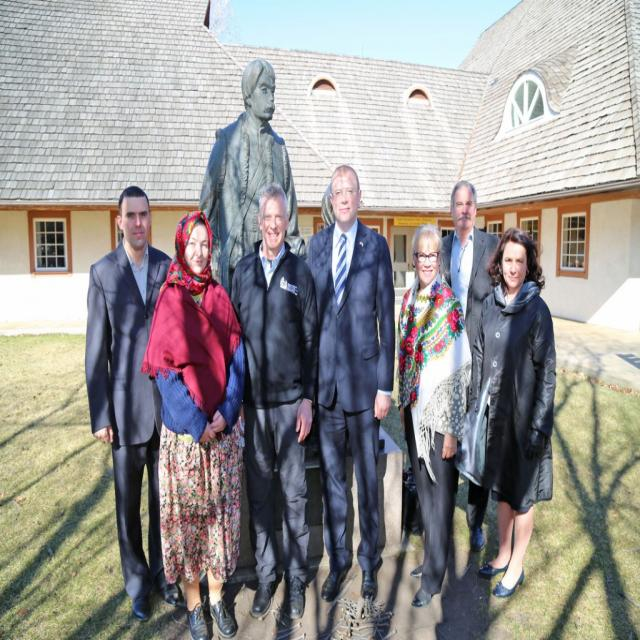body: (140, 203, 248, 639), (83, 185, 181, 621), (227, 182, 320, 621), (304, 162, 396, 602), (455, 224, 558, 601), (197, 51, 341, 278), (396, 221, 474, 609), (438, 178, 502, 554)
